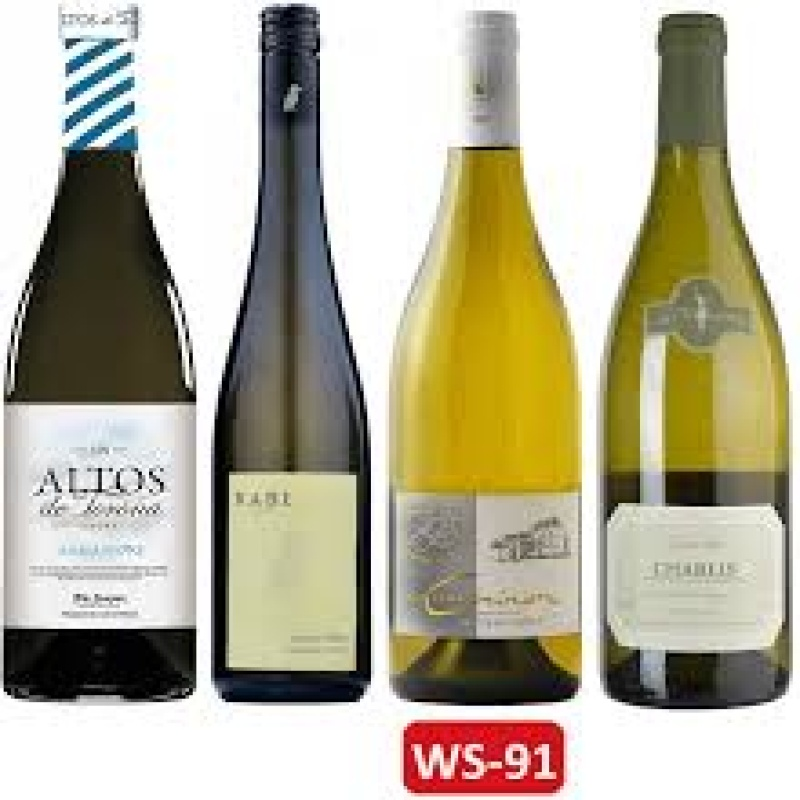wine: (391, 19, 587, 699), (602, 14, 789, 710), (14, 19, 197, 715), (209, 11, 375, 697)
